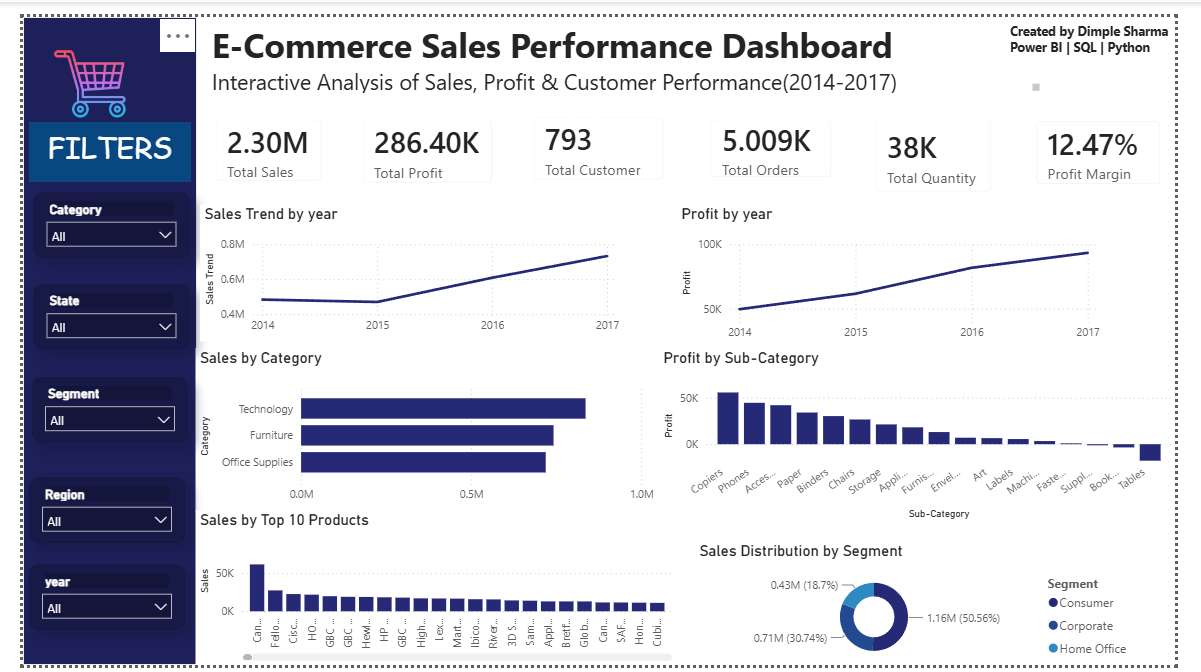

The page's visual inventory and layout, read from the dashboard file:
{"tool":"powerbi","page":{"name":"Page 1","canvas":[1280,720],"ordinal":0},"visuals":[{"type":"cardVisual","fields":{"Data":["Sum(Sample - Superstore.Sales)"]},"box":[196,96,152,102],"z":0},{"type":"cardVisual","fields":{"Data":["Count(Sample - Superstore.Order ID)"]},"box":[746,96,168,98],"z":1000},{"type":"cardVisual","fields":{"Data":["Sum(Sample - Superstore.Profit)"]},"box":[360,96,178,104],"z":2000},{"type":"cardVisual","fields":{"Data":["Count(Sample - Superstore.Customer ID)"]},"box":[550,94,178,104],"z":3000},{"type":"textbox","box":[205.6,0,929.4,89.1],"z":4000},{"type":"shape","box":[0,0,192.5,720],"z":5000},{"type":"image","box":[6.7,31.7,135,85],"z":6000},{"type":"textbox","box":[6.5,116.6,179.7,66.4],"z":7000},{"type":"slicer","fields":{"Values":["Sample - Superstore.Category"]},"box":[11.3,194.3,173.3,72.9],"z":8000},{"type":"columnChart","fields":{"Y":["Sum(Sample - Superstore.Profit)"],"Category":["Sample - Superstore.Sub-Category"]},"box":[706,368,574,194],"z":9000},{"type":"barChart","fields":{"Y":["Sum(Sample - Superstore.Sales)"],"Category":["Sample - Superstore.Category"]},"box":[192,368,514,180],"z":11000},{"type":"lineChart","fields":{"Category":["Sample - Superstore.year"],"Y":["Sum(Sample - Superstore.Profit)"]},"box":[726,208,474,160],"z":12000},{"type":"donutChart","fields":{"Y":["Sum(Sample - Superstore.Sales)"],"Category":["Sample - Superstore.Segment"]},"box":[746,584,494,136],"z":13000},{"type":"slicer","fields":{"Values":["Sample - Superstore.State"]},"box":[11.7,296.7,173.3,72.9],"z":16000},{"type":"slicer","fields":{"Values":["Sample - Superstore.Segment"]},"box":[10,400,173.3,72.9],"z":17000},{"type":"slicer","fields":{"Values":["Sample - Superstore.Region"]},"box":[6.7,511.7,173.3,72.9],"z":18000},{"type":"slicer","fields":{"Values":["Sample - Superstore.year"]},"box":[6.7,608.3,173.3,72.9],"z":19000},{"type":"cardVisual","fields":{"Data":["Sum(Sample - Superstore.Quantity)"]},"box":[930,96,162,114],"z":19001},{"type":"lineChart","fields":{"Y":["Sum(Sample - Superstore.Sales)"],"Category":["Sample - Superstore.year"]},"box":[196,208,470,152],"z":19002},{"type":"columnChart","fields":{"Category":["Sample - Superstore.Product Name"],"Y":["Sum(Sample - Superstore.Sales)"]},"box":[192,548,534,172],"z":19003},{"type":"cardVisual","fields":{"Data":["Sample - Superstore.Profit Margin"]},"box":[1108,98,172,104],"z":19004},{"type":"textbox","box":[1092,0,188,74],"z":19005}]}

Visuals, with their boxes in screenshot pixels (x1, y1, x2, y2), scaled from the page's 1280x720 canvas onto the 1201x672 screenshot:
cardVisual - Sum(Sample - Superstore.Sales): x1=184, y1=90, x2=327, y2=185
cardVisual - Count(Sample - Superstore.Order ID): x1=700, y1=90, x2=858, y2=181
cardVisual - Sum(Sample - Superstore.Profit): x1=338, y1=90, x2=505, y2=187
cardVisual - Count(Sample - Superstore.Customer ID): x1=516, y1=88, x2=683, y2=185
textbox: x1=193, y1=0, x2=1065, y2=83
shape: x1=0, y1=0, x2=181, y2=671
image: x1=6, y1=30, x2=133, y2=109
textbox: x1=6, y1=109, x2=175, y2=171
slicer - Sample - Superstore.Category: x1=11, y1=181, x2=173, y2=249
columnChart - Sum(Sample - Superstore.Profit) x Sample - Superstore.Sub-Category: x1=662, y1=343, x2=1200, y2=525
barChart - Sum(Sample - Superstore.Sales) x Sample - Superstore.Category: x1=180, y1=343, x2=662, y2=511
lineChart - Sample - Superstore.year x Sum(Sample - Superstore.Profit): x1=681, y1=194, x2=1126, y2=343
donutChart - Sum(Sample - Superstore.Sales) x Sample - Superstore.Segment: x1=700, y1=545, x2=1163, y2=671
slicer - Sample - Superstore.State: x1=11, y1=277, x2=174, y2=345
slicer - Sample - Superstore.Segment: x1=9, y1=373, x2=172, y2=441
slicer - Sample - Superstore.Region: x1=6, y1=478, x2=169, y2=546
slicer - Sample - Superstore.year: x1=6, y1=568, x2=169, y2=636
cardVisual - Sum(Sample - Superstore.Quantity): x1=873, y1=90, x2=1025, y2=196
lineChart - Sum(Sample - Superstore.Sales) x Sample - Superstore.year: x1=184, y1=194, x2=625, y2=336
columnChart - Sample - Superstore.Product Name x Sum(Sample - Superstore.Sales): x1=180, y1=511, x2=681, y2=671
cardVisual - Sample - Superstore.Profit Margin: x1=1040, y1=91, x2=1200, y2=189
textbox: x1=1025, y1=0, x2=1200, y2=69
